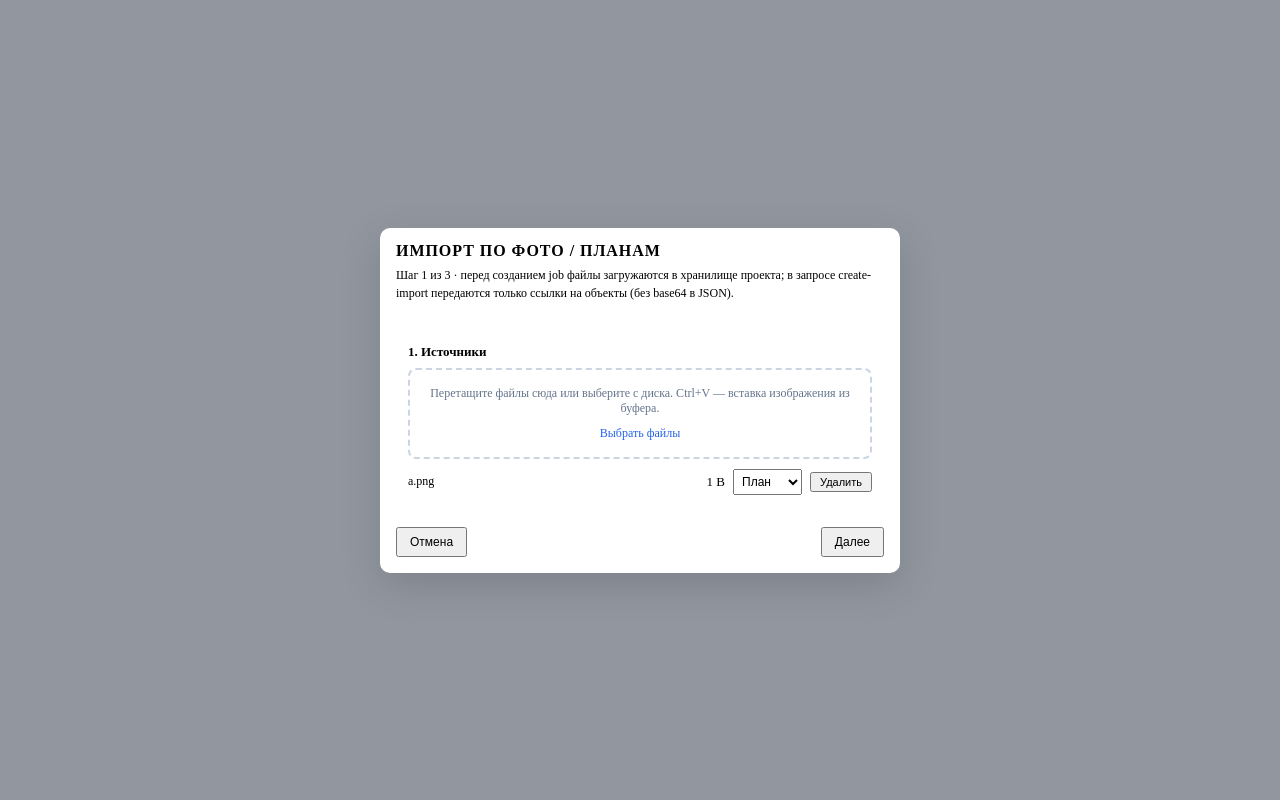
AiImportWizardModal › shows error when createImportJob fails
Earlier steps of the test are not shown.
Click the button with test id "ai-import-wizard-next" at (852, 542), box [821,526,884,556]
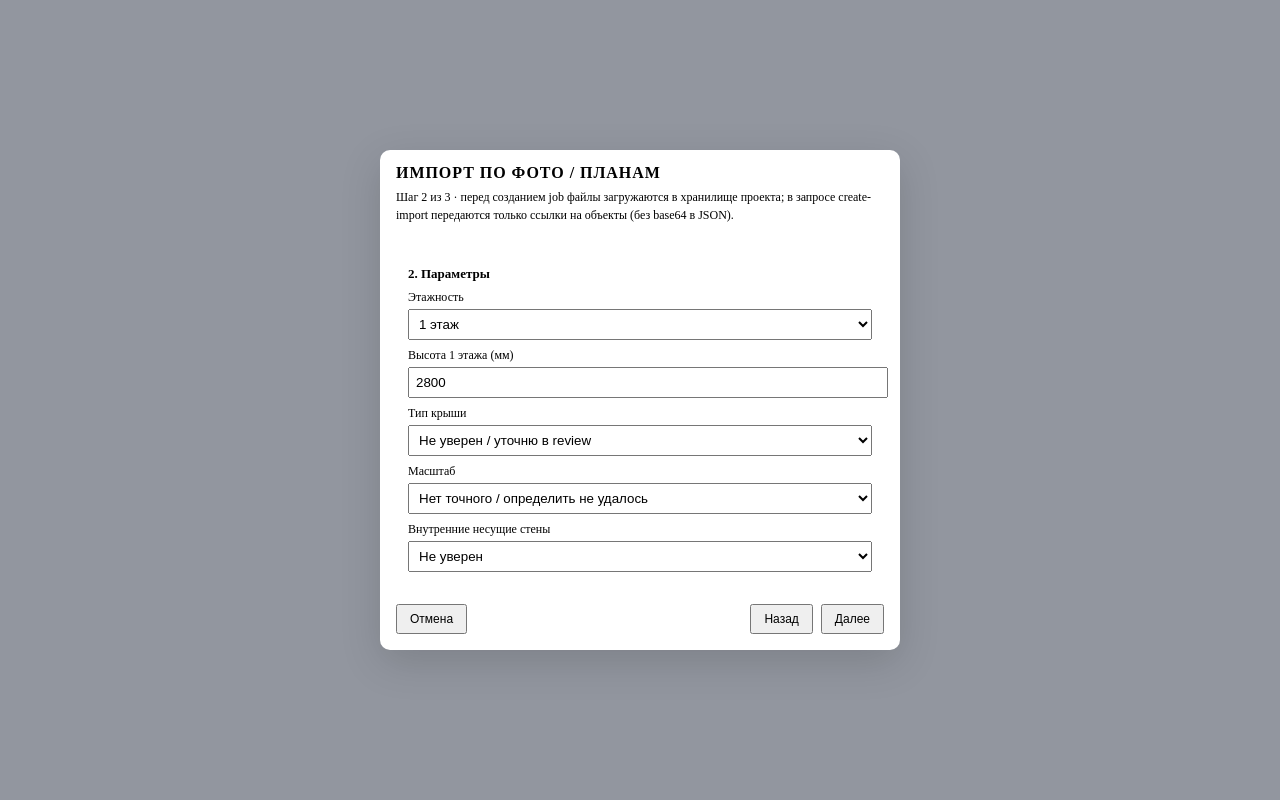
Click the button with test id "ai-import-wizard-next" at (852, 619), box [821,604,884,634]
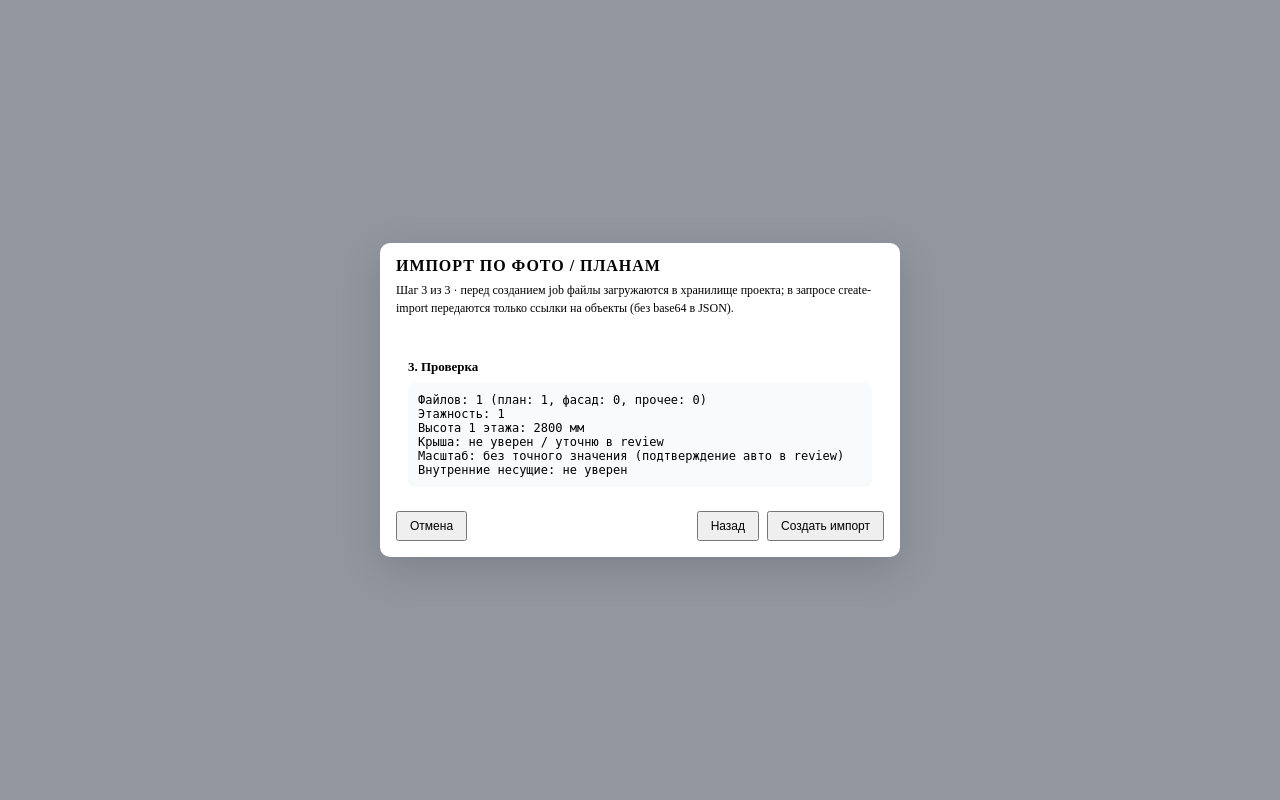
Click the button with test id "ai-import-wizard-submit" at (826, 526), box [767,511,884,541]
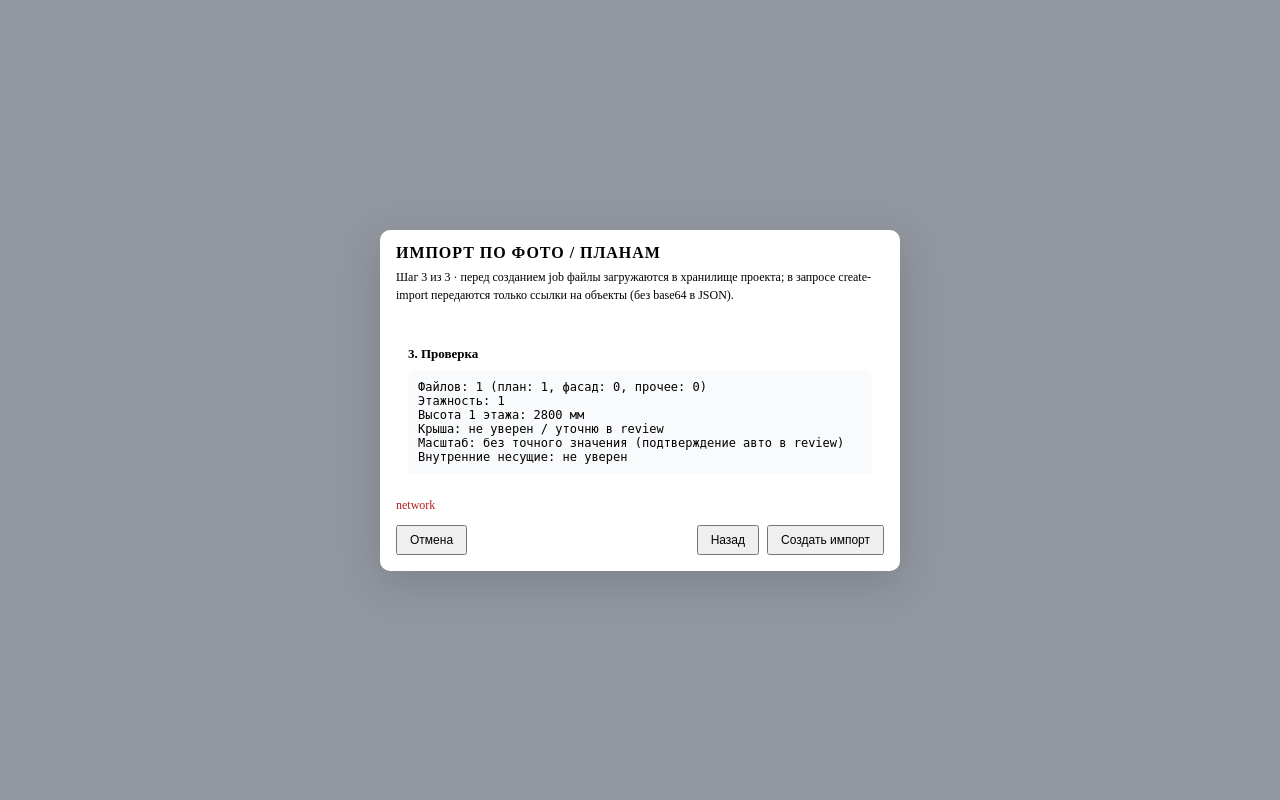
Now the text with test id "ai-import-wizard-error" reads "network", box [396,498,435,512]
